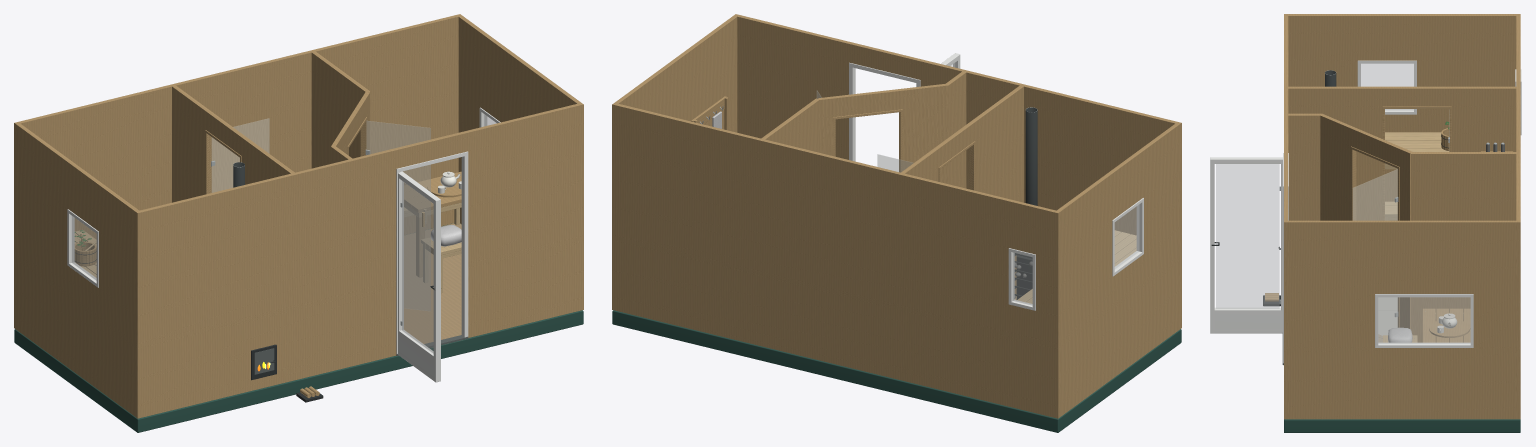
3 renders of one model, left to right at view 1: azimuth 30°, elevation 25°; view 2: azimuth 150°, elevation 25°; view 3: azimuth 270°, elevation 25°, orthographic. The views are drawn at different scales.
Parts seen in each view (by area): view 1: DP12-W01, DP12-W02, DP12-W03, Hinge_DP12-D03, Dimensioned foundation, DP12-W04, DP12-W05, Hinge_DP12-D01, DP12-R03, DP12-W06, Door entry p12_i4476, С1 table (+7 smaller); view 2: DP12-W02, DP12-W01, DP12-W03, Dimensioned foundation, DP12-W04, DP12-W05, DP12-W08, ASTON dimensioned stove and remote firebox, Window p12_i4531, DP12-W06, DP12-W07, Window p12_i4532 (+4 smaller); view 3: DP12-W04, DP12-W03, Hinge_DP12-D03, DP12-W05, DP12-W06, Window p12_i4533, DP12-W08, DP12-W07, Dimensioned foundation, Hinge_DP12-D01, DP12-W02, DP12-W01 (+9 smaller).
Boxes of the visible parts, bbox=[...] form: DP12-W01: bbox=[135, 103, 583, 418]; DP12-W02: bbox=[14, 14, 461, 329]; DP12-W03: bbox=[16, 123, 138, 416]; Hinge_DP12-D03: bbox=[398, 171, 440, 382]; Dimensioned foundation: bbox=[14, 223, 583, 432]; DP12-W04: bbox=[458, 15, 580, 223]; DP12-W05: bbox=[172, 85, 294, 202]; Hinge_DP12-D01: bbox=[365, 121, 430, 310]; DP12-R03: bbox=[404, 223, 461, 343]; DP12-W06: bbox=[311, 51, 370, 168]; Door entry p12_i4476: bbox=[396, 151, 468, 355]; С1 table: bbox=[404, 171, 461, 277]; DP12-W02: bbox=[612, 103, 1060, 418]; DP12-W01: bbox=[734, 14, 1181, 329]; DP12-W03: bbox=[1057, 123, 1179, 416]; Dimensioned foundation: bbox=[612, 310, 1181, 432]; DP12-W04: bbox=[615, 15, 737, 132]; DP12-W05: bbox=[901, 85, 1023, 293]; DP12-W08: bbox=[818, 84, 948, 184]; ASTON dimensioned stove and remote firebox: bbox=[1014, 107, 1037, 299]; Window p12_i4531: bbox=[1112, 198, 1143, 276]; DP12-W06: bbox=[761, 98, 819, 152]; DP12-W07: bbox=[945, 71, 966, 188]; Window p12_i4532: bbox=[1008, 248, 1035, 310]; DP12-W04: bbox=[1288, 220, 1516, 419]; DP12-W03: bbox=[1288, 14, 1516, 201]; Hinge_DP12-D03: bbox=[1210, 157, 1282, 333]; DP12-W05: bbox=[1288, 86, 1516, 220]; DP12-W06: bbox=[1411, 152, 1516, 342]; Window p12_i4533: bbox=[1375, 294, 1473, 347]; DP12-W08: bbox=[1320, 114, 1412, 329]; DP12-W07: bbox=[1288, 113, 1322, 220]; Dimensioned foundation: bbox=[1284, 419, 1520, 432]; Hinge_DP12-D01: bbox=[1353, 169, 1398, 342]; DP12-W02: bbox=[1516, 14, 1520, 419]; DP12-W01: bbox=[1284, 14, 1288, 419].
Size of the model in its own units: 5.02 by 2.36 by 3.15.
Materials: 33 (14 with a texture image).
